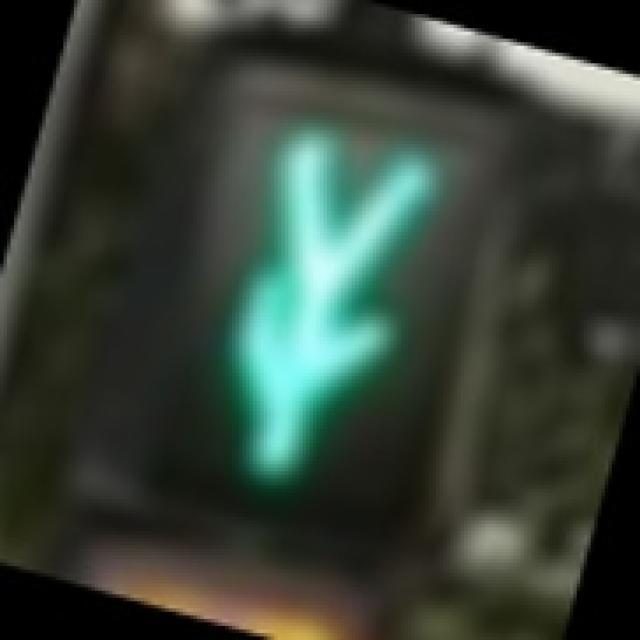geen-crossing: (94, 60, 534, 562)
